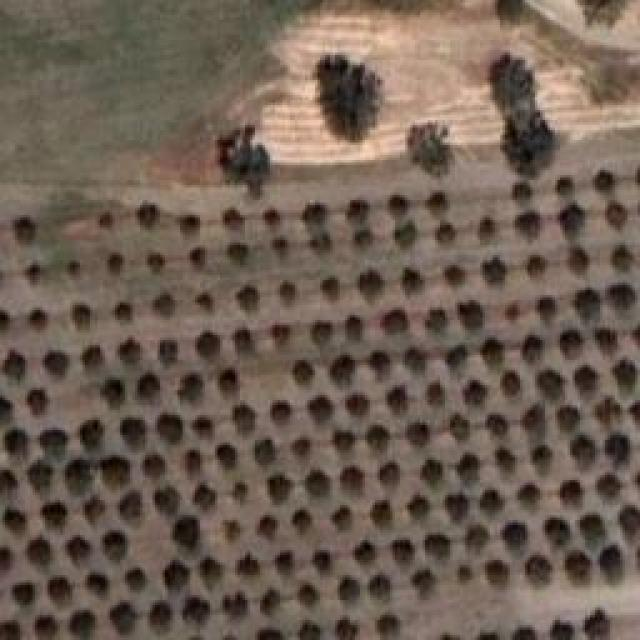Tree: (315, 55, 383, 143), (503, 110, 559, 179), (218, 125, 271, 196), (485, 50, 544, 110), (408, 122, 454, 177), (392, 195, 417, 247), (578, 0, 626, 27), (130, 200, 165, 235), (220, 238, 255, 267), (100, 455, 130, 488), (575, 288, 603, 323), (172, 515, 200, 550), (10, 215, 42, 245), (557, 204, 585, 238), (600, 545, 625, 583), (525, 555, 553, 588), (605, 432, 631, 467), (570, 435, 596, 470), (65, 460, 90, 496), (110, 603, 139, 634), (185, 243, 213, 275), (565, 553, 591, 587), (147, 293, 178, 321), (358, 270, 384, 303), (573, 365, 599, 398), (608, 282, 638, 310), (595, 397, 623, 427), (585, 610, 613, 640), (120, 418, 146, 450), (330, 355, 355, 388), (80, 420, 105, 453), (613, 360, 638, 393), (235, 283, 262, 313), (458, 300, 484, 331), (28, 460, 53, 492), (70, 612, 98, 640), (68, 300, 94, 330), (158, 415, 184, 445), (178, 372, 204, 402), (163, 563, 189, 593), (545, 517, 571, 547), (182, 598, 210, 625), (483, 258, 509, 287), (103, 532, 128, 562), (268, 475, 293, 505), (3, 350, 27, 381), (150, 603, 174, 634), (200, 558, 224, 589), (20, 260, 48, 286), (43, 352, 69, 380), (515, 210, 541, 238), (580, 515, 606, 543), (308, 395, 333, 424), (103, 380, 127, 410), (458, 454, 482, 484), (560, 330, 584, 360), (523, 405, 547, 435), (233, 405, 256, 436), (351, 228, 378, 254), (308, 233, 335, 259), (195, 333, 220, 361), (382, 310, 410, 335), (42, 433, 67, 461), (28, 538, 53, 566), (305, 470, 330, 498), (120, 492, 143, 522), (483, 337, 506, 367), (523, 335, 546, 365), (93, 210, 120, 235), (68, 535, 93, 562), (480, 490, 505, 517), (540, 373, 565, 400), (413, 570, 437, 598), (465, 525, 489, 553), (568, 248, 592, 276), (370, 353, 393, 382), (463, 380, 488, 406), (503, 522, 529, 547), (143, 252, 170, 276), (50, 578, 74, 605), (445, 495, 469, 522), (233, 327, 256, 355), (343, 468, 366, 496), (388, 385, 409, 415), (218, 368, 239, 398), (533, 445, 554, 475), (425, 535, 450, 560), (113, 300, 139, 324), (143, 455, 167, 481), (613, 245, 636, 272), (405, 348, 428, 375), (138, 373, 161, 400), (28, 390, 51, 417), (45, 503, 68, 530), (195, 485, 218, 512), (605, 203, 628, 230), (105, 253, 130, 277), (425, 192, 449, 217), (598, 474, 623, 498), (620, 505, 640, 535), (120, 338, 143, 364), (303, 203, 329, 226), (5, 430, 28, 456), (368, 425, 391, 451), (498, 0, 525, 22), (403, 267, 424, 295), (423, 460, 444, 488), (348, 200, 372, 224), (408, 424, 432, 448), (518, 484, 542, 508), (425, 307, 448, 332), (445, 345, 468, 370), (378, 615, 401, 640), (83, 345, 104, 372), (85, 498, 106, 525), (158, 488, 179, 515), (370, 575, 391, 602), (25, 308, 48, 332), (348, 395, 372, 418), (255, 440, 276, 466), (333, 505, 354, 531), (293, 510, 314, 536), (478, 218, 498, 245), (450, 415, 470, 442), (37, 617, 60, 640), (125, 568, 148, 591), (435, 223, 458, 246), (223, 595, 246, 618), (408, 495, 431, 518), (355, 540, 378, 563), (195, 290, 219, 312), (313, 323, 334, 348), (293, 360, 314, 385), (340, 577, 361, 602), (488, 562, 509, 587), (598, 330, 619, 355), (538, 298, 558, 324), (218, 445, 238, 471), (503, 370, 523, 396), (260, 590, 280, 616), (498, 448, 518, 474), (185, 450, 204, 477), (60, 258, 83, 280), (270, 325, 291, 349), (380, 464, 401, 488), (320, 278, 340, 303), (88, 572, 108, 597), (258, 515, 278, 540), (560, 407, 580, 432), (160, 340, 179, 366), (345, 315, 364, 341), (428, 383, 447, 409), (372, 503, 390, 530), (555, 178, 577, 200), (528, 255, 549, 278), (445, 265, 468, 286), (180, 215, 203, 236), (563, 482, 582, 507), (223, 208, 244, 230), (298, 585, 319, 607), (238, 555, 259, 577), (333, 434, 356, 454), (8, 510, 28, 533), (595, 170, 615, 193), (280, 283, 298, 308), (270, 403, 291, 424), (13, 585, 34, 606), (275, 553, 294, 576), (488, 415, 507, 438), (395, 540, 414, 562), (0, 470, 18, 493), (553, 622, 576, 640), (193, 418, 213, 438), (340, 620, 360, 640), (293, 438, 312, 459), (225, 520, 243, 542), (313, 552, 332, 572), (272, 238, 290, 259), (0, 622, 20, 640), (512, 627, 539, 640), (0, 397, 14, 422), (300, 623, 320, 640), (257, 628, 285, 640), (512, 183, 530, 201), (263, 210, 282, 227), (233, 482, 249, 502), (505, 303, 520, 322), (3, 547, 14, 572), (458, 565, 473, 582), (0, 310, 10, 331)
